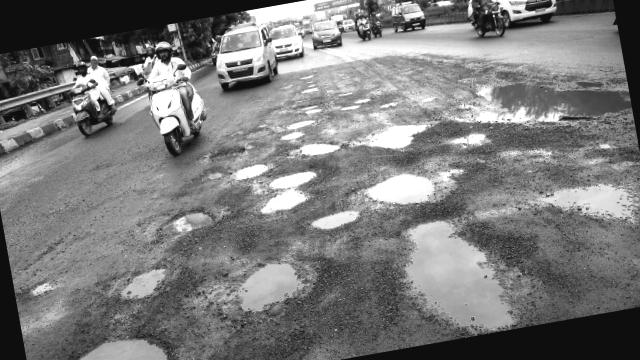Pothole: (428, 40, 634, 154), (389, 189, 528, 346), (530, 156, 640, 237), (220, 243, 322, 327), (35, 306, 190, 360), (359, 153, 448, 221), (346, 113, 433, 162), (250, 166, 324, 222), (146, 200, 224, 252), (113, 249, 176, 309), (16, 260, 71, 301), (292, 130, 346, 162), (199, 141, 248, 170), (193, 165, 234, 188)
